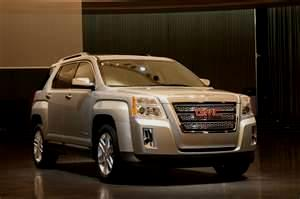GMC: (191, 105, 225, 120)
